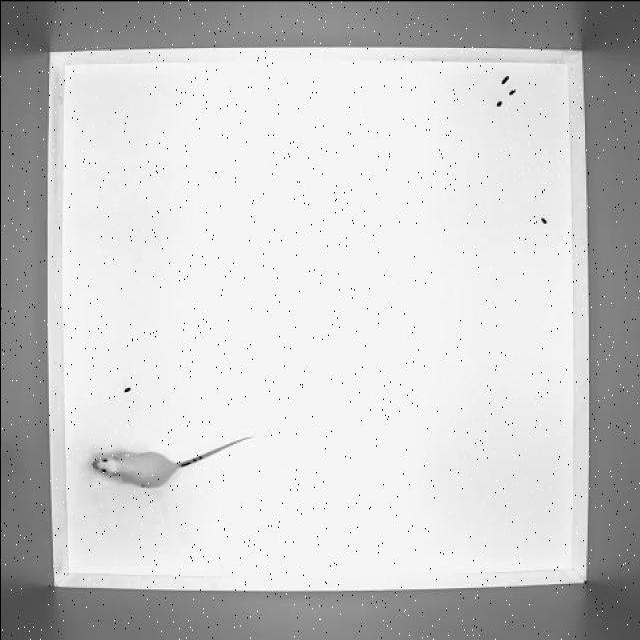rat: (86, 423, 250, 508)
